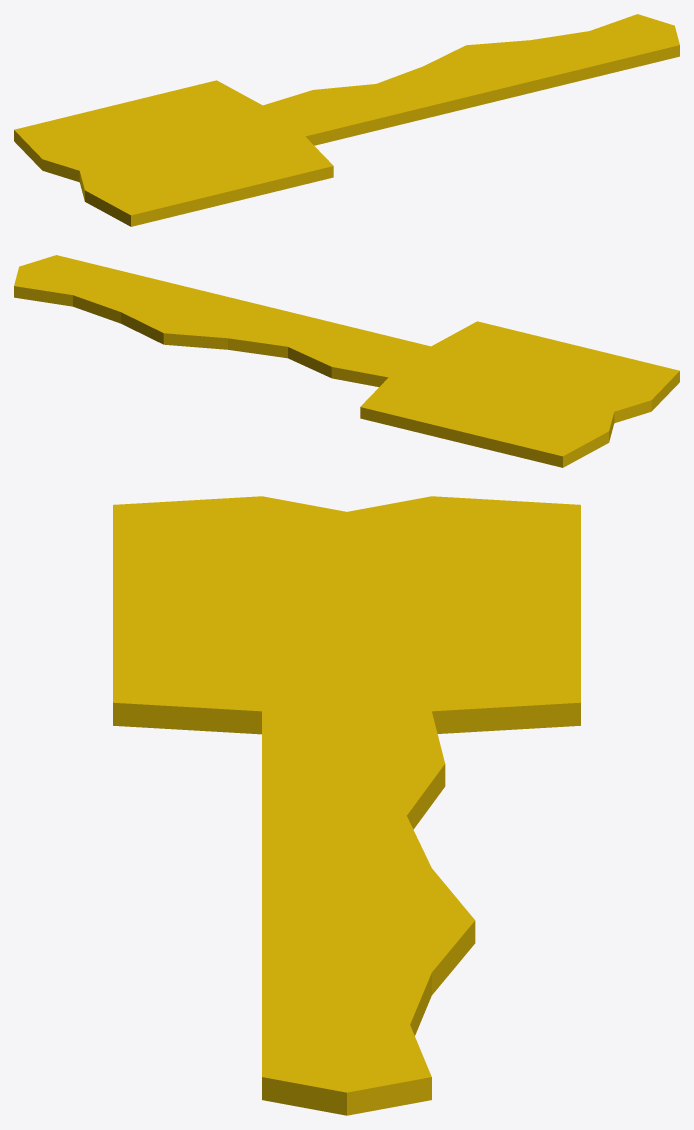
File: key.fbx
3 views of the same model, one above another, from view 1: azimuth 30°, elevation 25°; view 2: azimuth 150°, elevation 25°; view 3: azimuth 270°, elevation 25° (orthographic). The views are drawn at different scales.
Parts seen in each view (by area): view 1: Plane; view 2: Plane; view 3: Plane.
Part boxes in pixels (bbox=[...]): Plane: bbox=[14, 14, 679, 226]; Plane: bbox=[14, 255, 679, 467]; Plane: bbox=[113, 496, 580, 1115].
Size of the model in its own units: 554 by 10 by 184.
